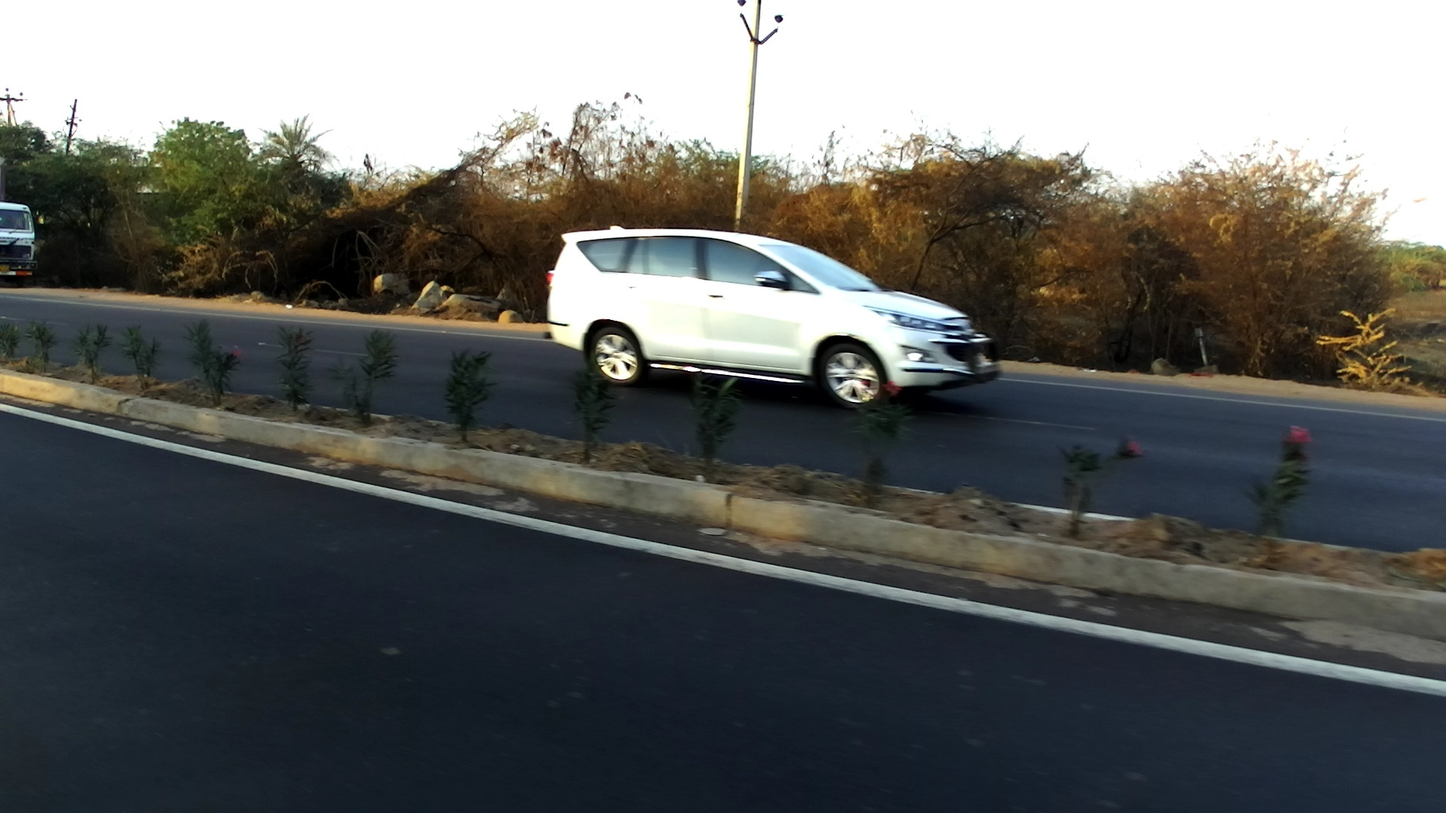car: (543, 218, 1002, 413)
truck: (1, 199, 38, 288)
